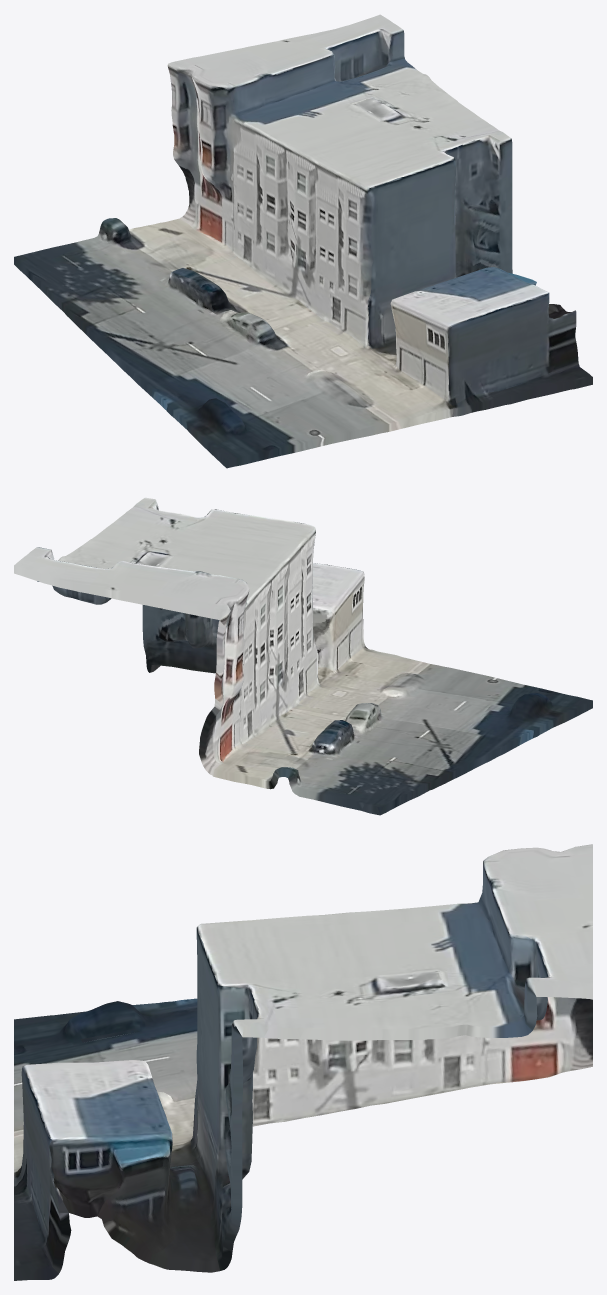
Rendered from z20-167726-405194-h0-yup-uvflip-v3-world.glb.
The picture shows the model from 3 angles, top to bottom: view 1: azimuth 30°, elevation 25°; view 2: azimuth 150°, elevation 25°; view 3: azimuth 270°, elevation 25°; orthographic projection. The views are drawn at different scales.
Size of the model in its own units: 30.16 by 17.2 by 30.32.
Materials: 1 (1 with a texture image).
